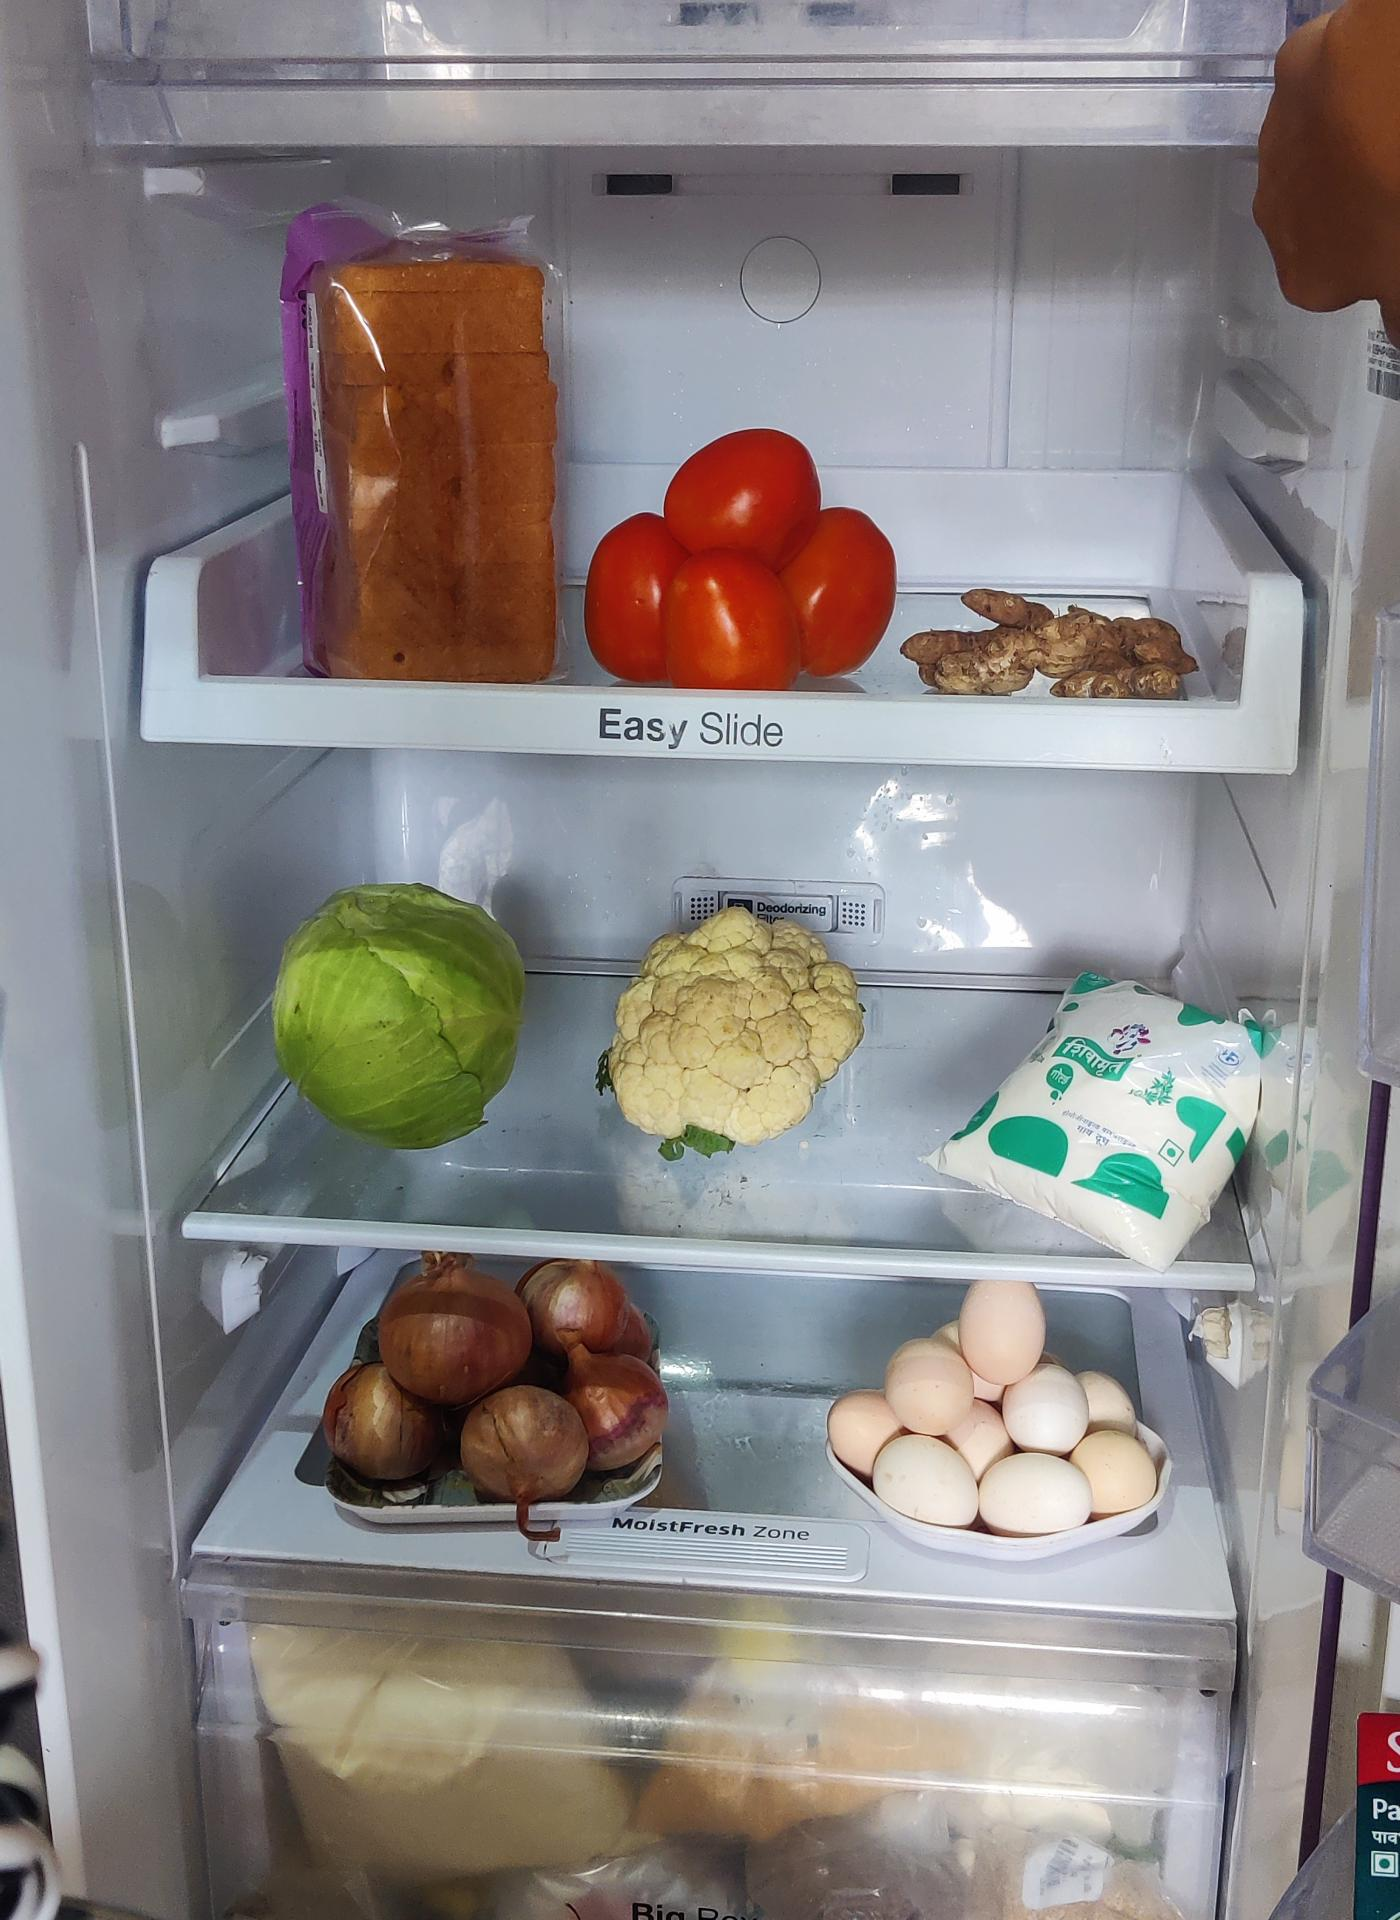bread: (283, 203, 577, 681)
cabbage: (277, 881, 532, 1146)
cauliflower: (608, 912, 875, 1149)
egg: (822, 1267, 1160, 1522)
ginger: (901, 584, 1208, 702)
milk: (933, 964, 1266, 1252)
onion: (321, 1263, 669, 1509)
tomato: (590, 432, 899, 698)
